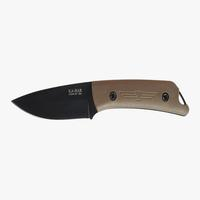knife: (7, 76, 191, 140)
